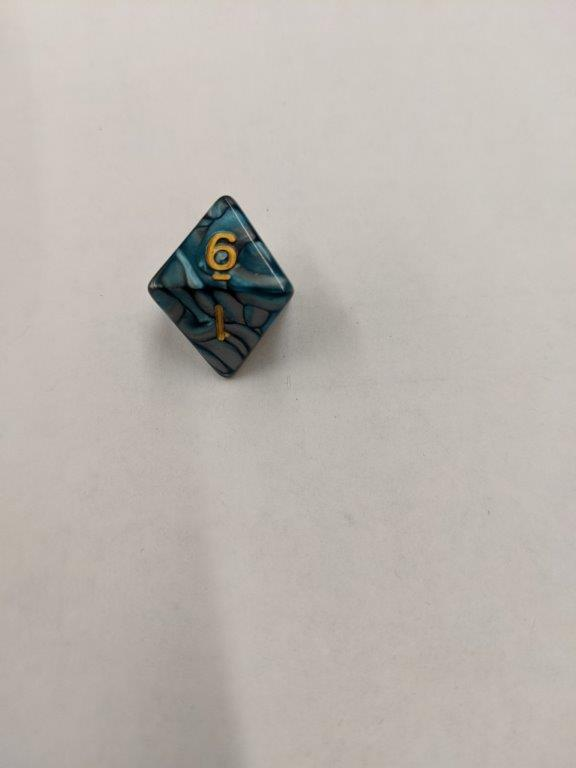d8-6: (144, 197, 297, 380)
